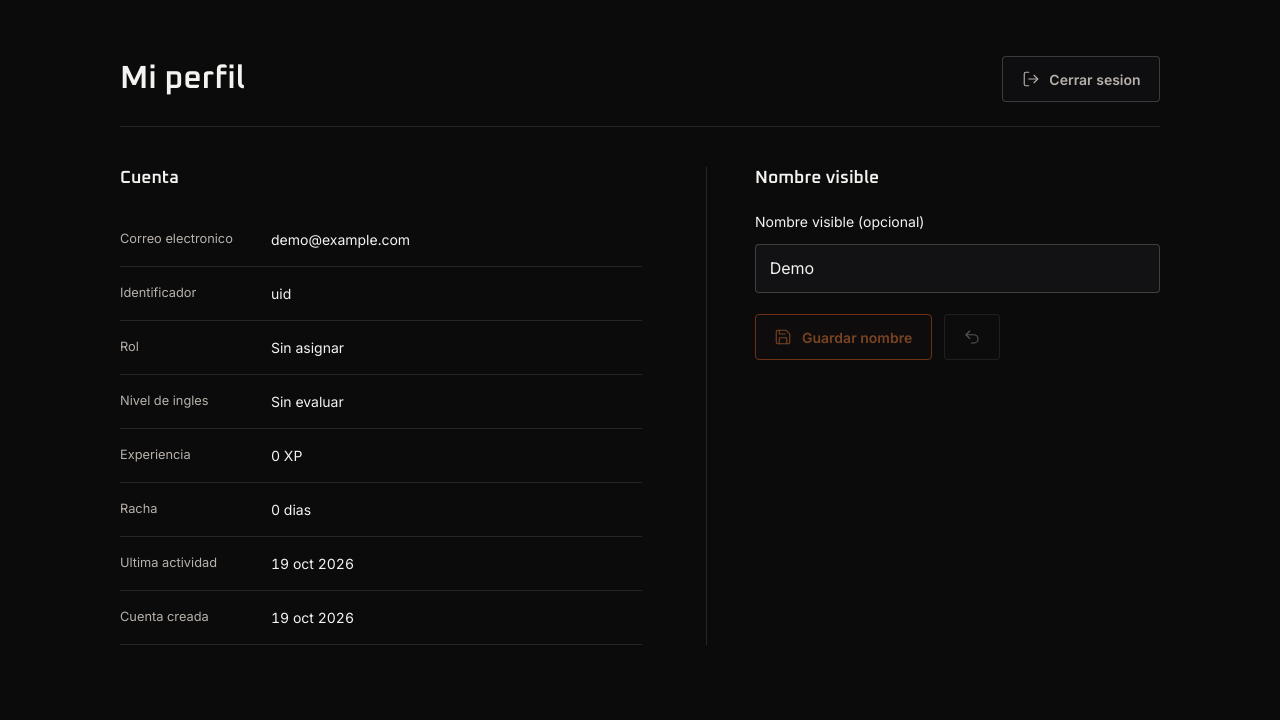
it: perfil › guarda el nombre sin espacios extremos y usa la respuesta del servidor
Replace the text in the field labelled "Nombre visible (opcional)" with "  Nuevo nombre  " at x=958, y=268, box x1=755 y1=244 x2=1160 y2=293
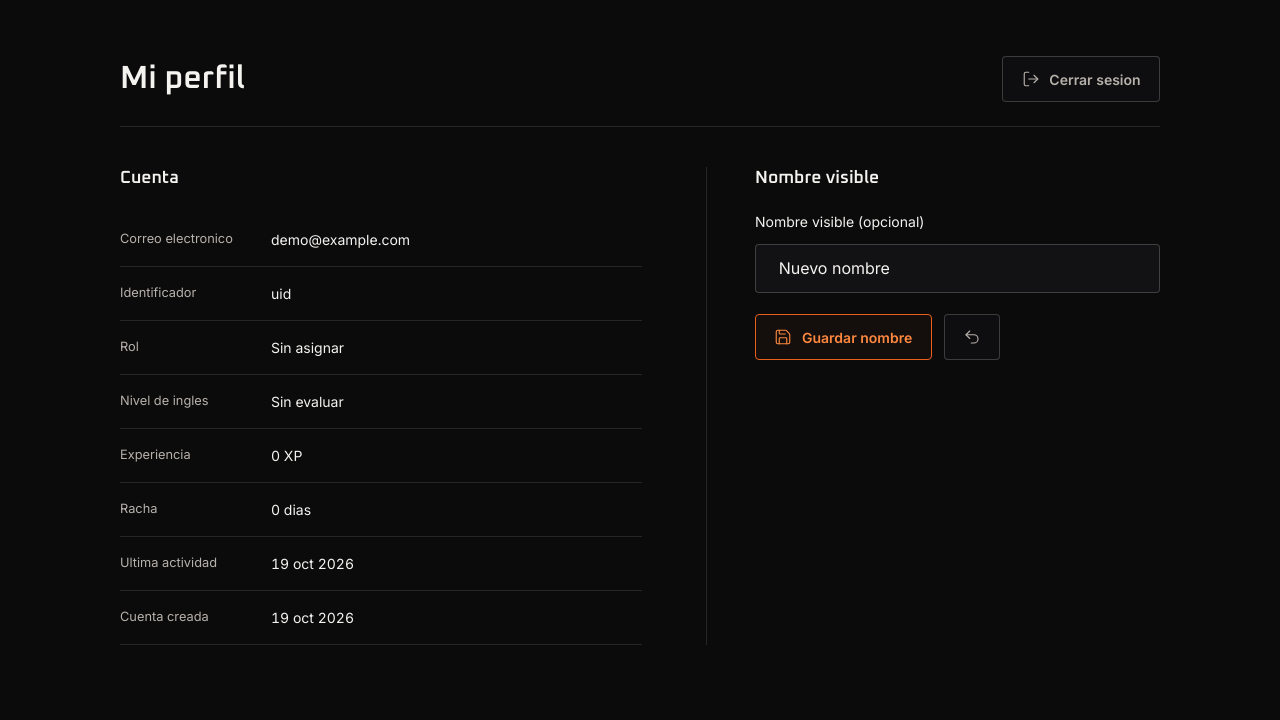
Click the button "Guardar nombre".
click(843, 337)  # box x1=755 y1=314 x2=932 y2=360
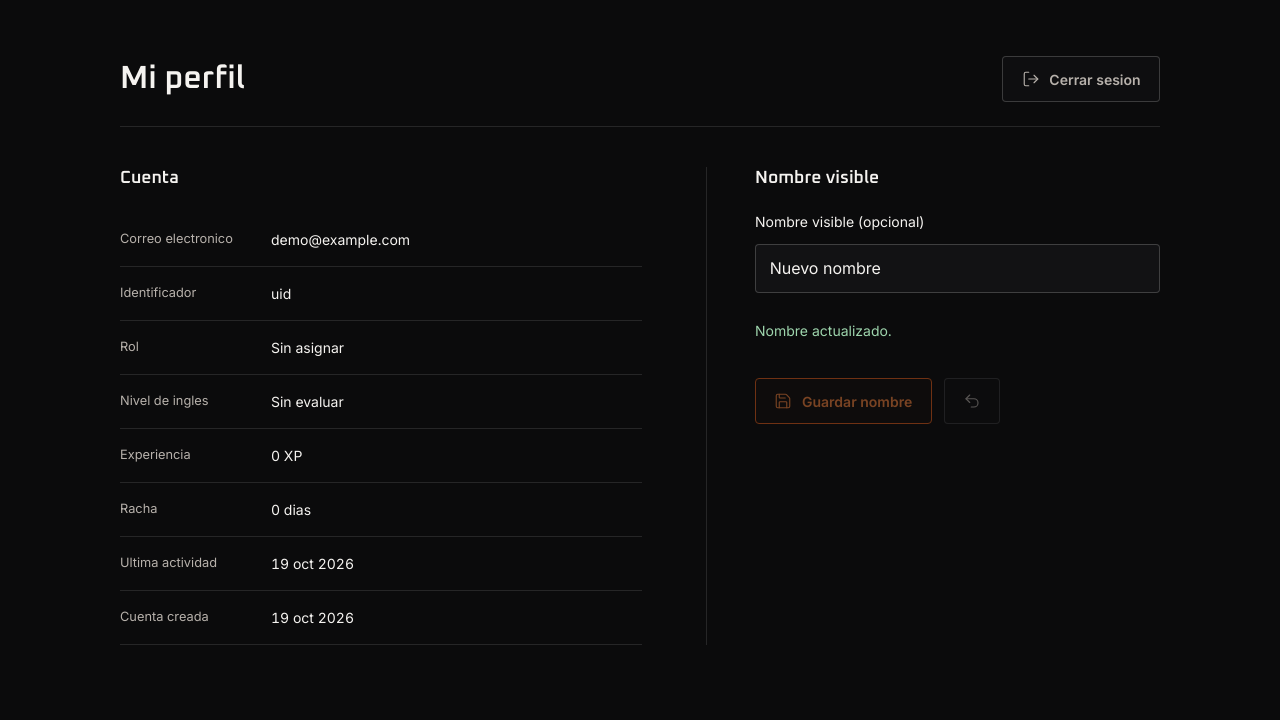
Expected: the message reads "Nombre actualizado.", x1=755 y1=322 x2=892 y2=339
Expected: the button "Guardar nombre" is disabled, x1=755 y1=378 x2=932 y2=424
